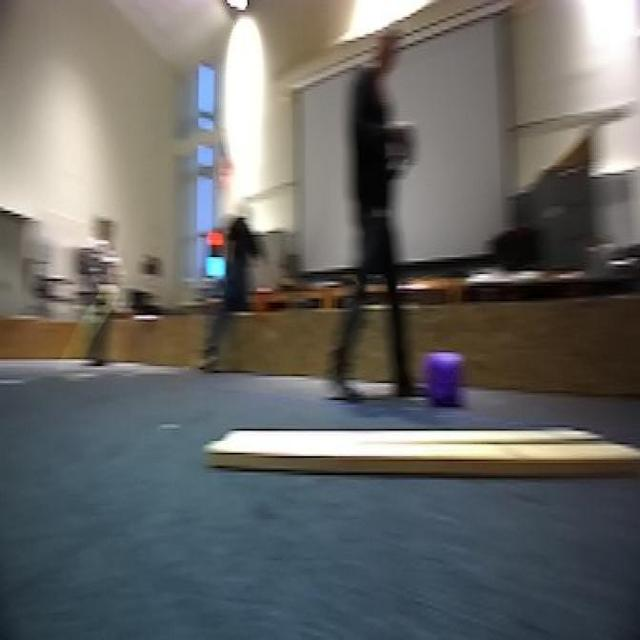frc_cube: (422, 352, 467, 410)
